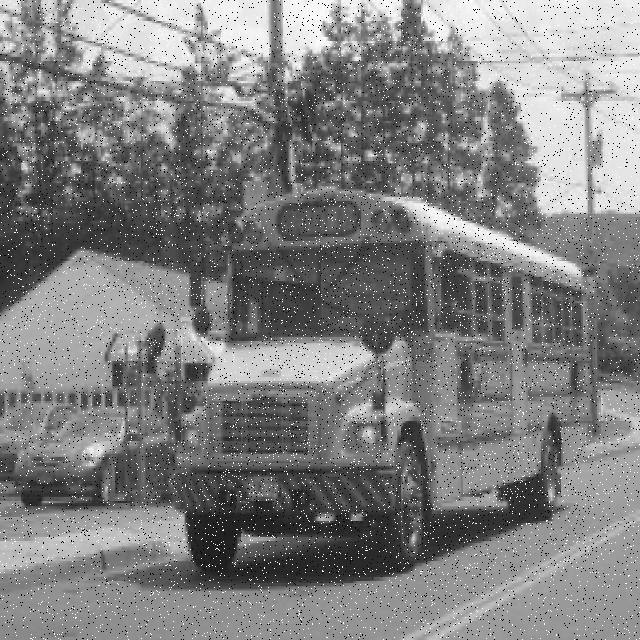Bus: (142, 190, 594, 575)
